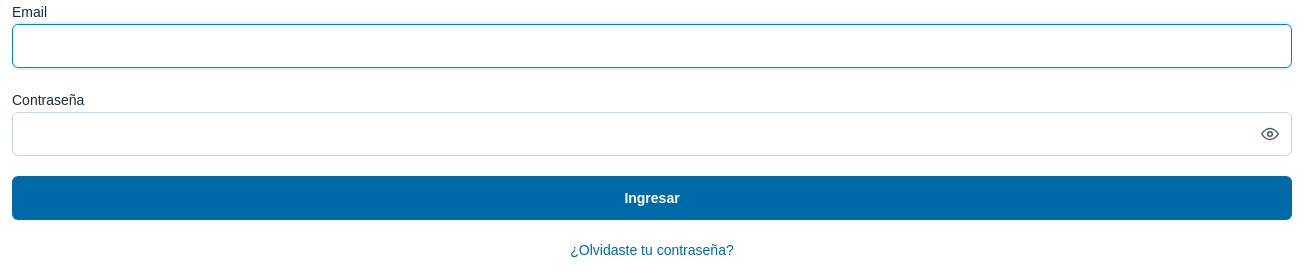
it: LoginForm password visibility › keeps login autocomplete and toggles only the password field
Type "secreto-123" into the password field labelled "Contraseña".
click(652, 134); type("secreto-123")  # box [12,112,1292,156]
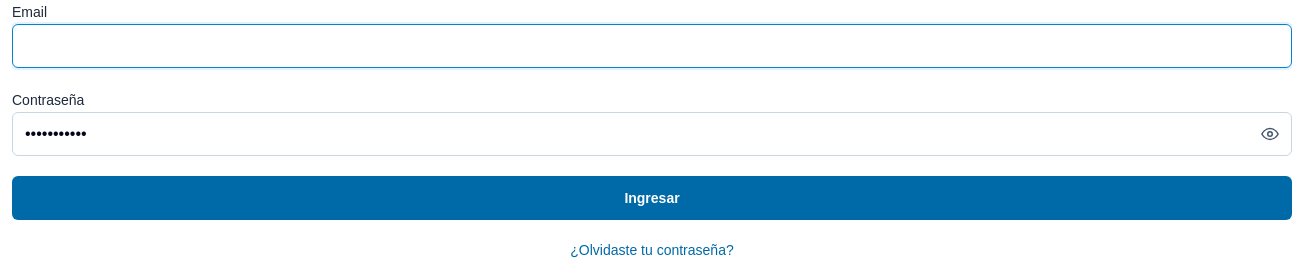
Click the button named "Mostrar contraseña".
click(1270, 134)  # box [1252,116,1288,152]
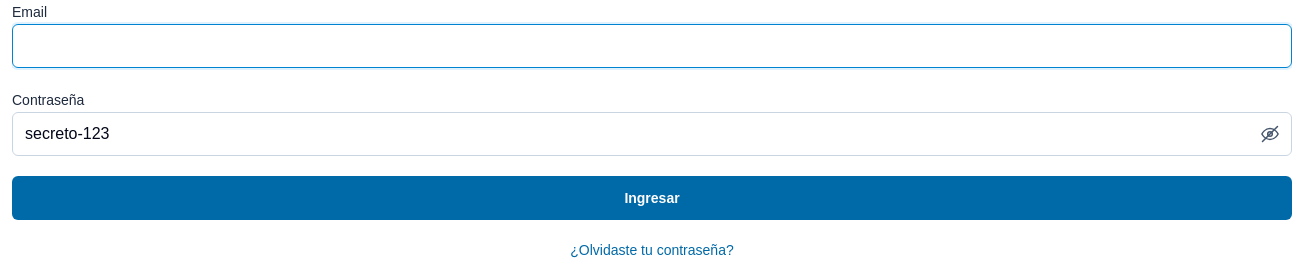
Expected: the field labelled "Contraseña" shows its text, [12,112,1292,156]
